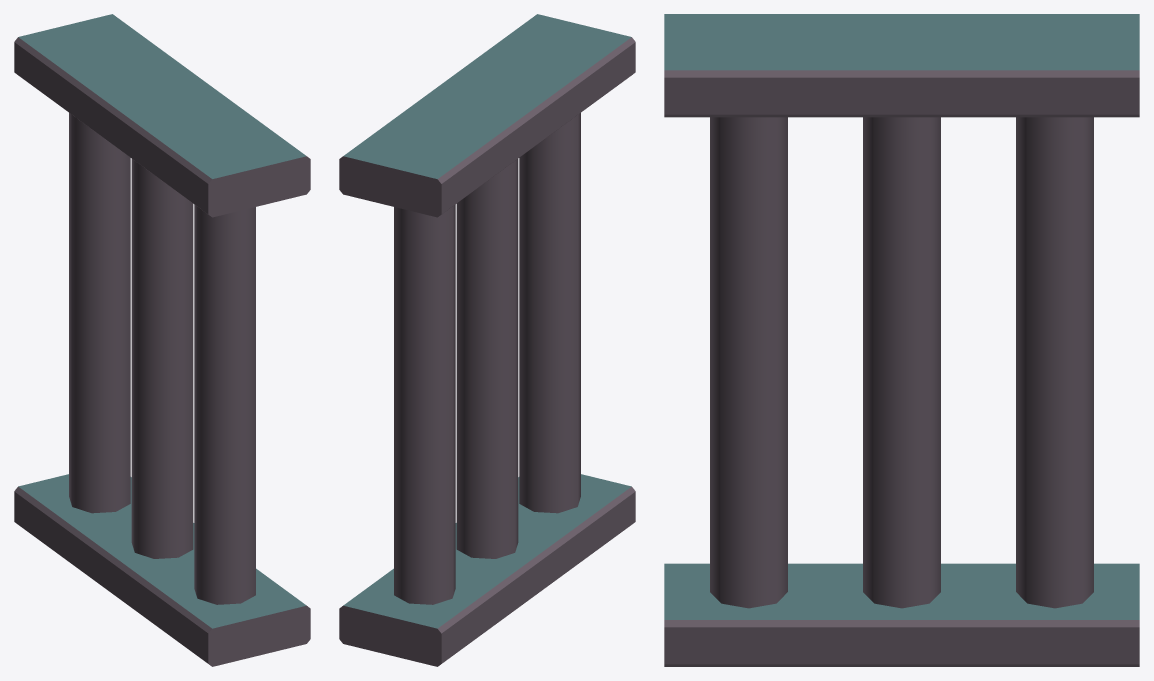
File: GB_122_123_railing_straight.glb
3 views of the same model, side by side, from view 1: azimuth 30°, elevation 25°; view 2: azimuth 150°, elevation 25°; view 3: azimuth 270°, elevation 25° (orthographic). The views are drawn at different scales.
Visible parts, largest first — view 1: Railing; view 2: Railing; view 3: Railing.
Part boxes in pixels (x1,y1,x2,y2): Railing: (14, 14, 310, 666); Railing: (339, 14, 635, 666); Railing: (664, 14, 1139, 666).
Bounding box in the file's own units: 0.2286 × 1.04 × 0.752.
